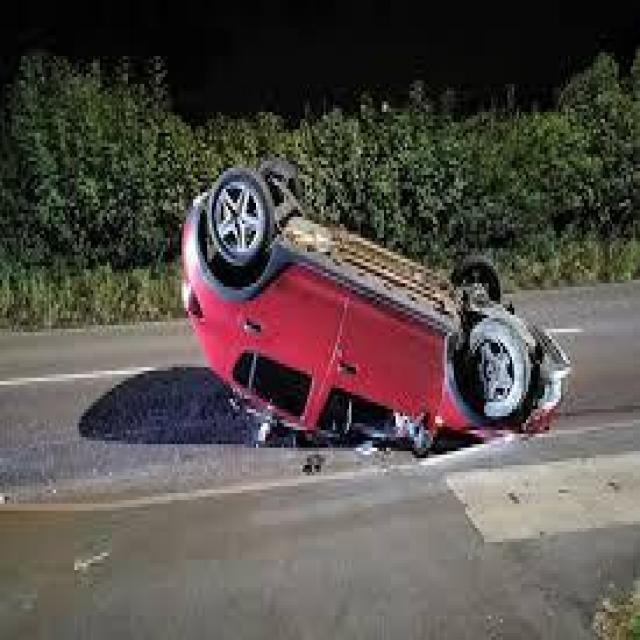accident: (174, 143, 572, 444)
